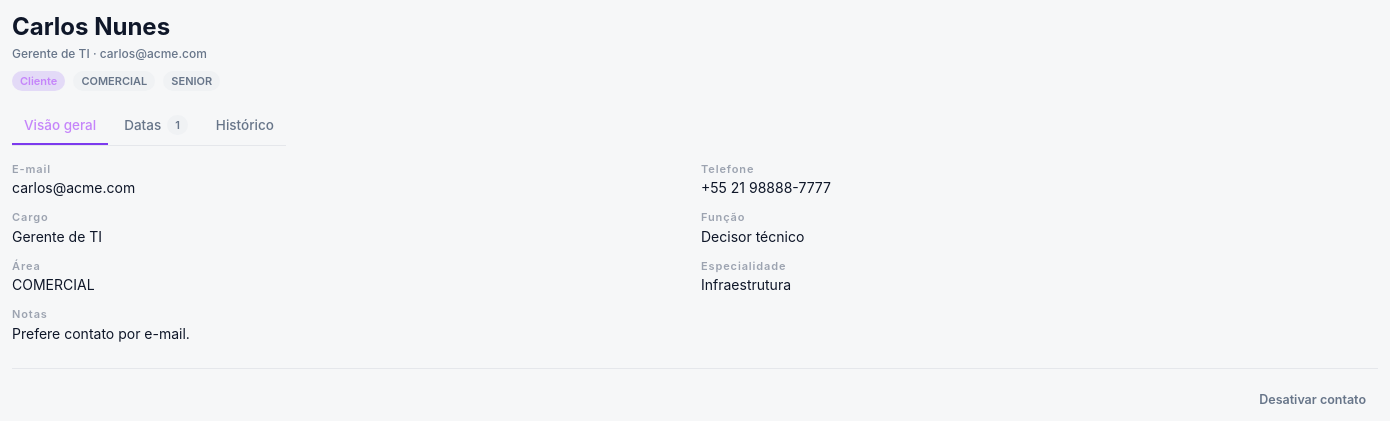
Test: ContactDetailContent — interações (housekeeping) › troca para a aba Histórico e mostra a data de cadastro
Click the tab "Histórico" at (245, 126), box [204, 107, 286, 145]
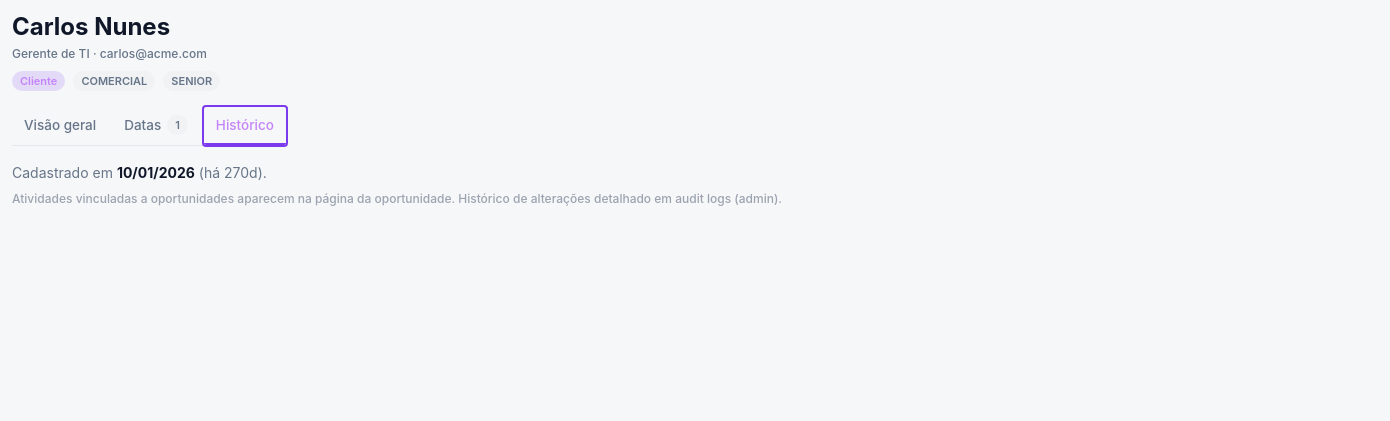
Expected: the text "Cadastrado em 10/01/2026 (há 270d)." is shown, [12, 164, 267, 181]
